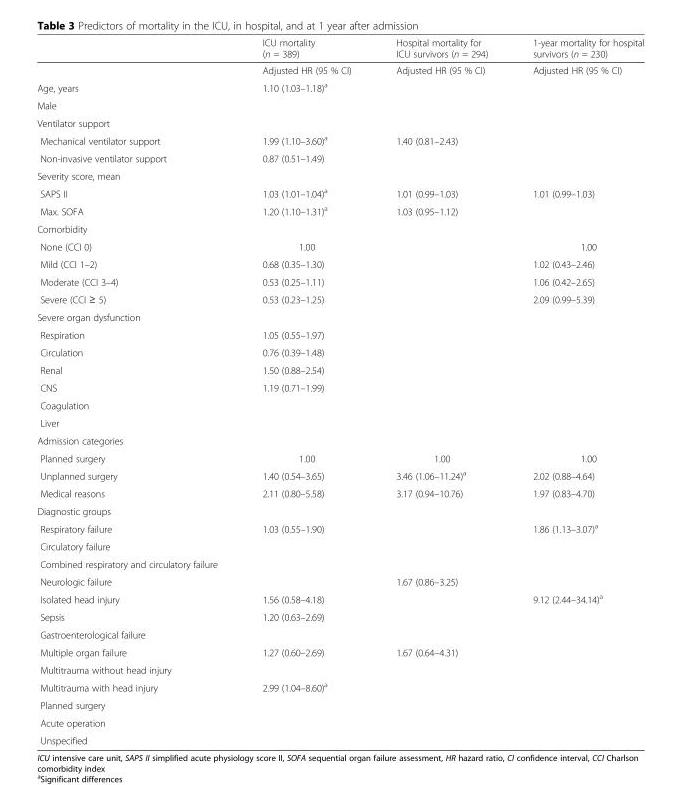table: (36, 36, 643, 745)
table column: (36, 36, 239, 745), (373, 36, 509, 745), (239, 36, 373, 745), (509, 36, 643, 745)
table column header: (36, 36, 643, 61)
table projected row header: (36, 96, 643, 114), (36, 219, 643, 237), (36, 413, 643, 431), (36, 431, 643, 449), (36, 537, 643, 555), (36, 625, 643, 643), (36, 713, 643, 731), (36, 166, 643, 183), (36, 308, 643, 325), (36, 396, 643, 413), (36, 555, 643, 572), (36, 660, 643, 677), (36, 696, 643, 713), (36, 114, 643, 130), (36, 502, 643, 518)
table row: (36, 36, 643, 61), (36, 130, 643, 149), (36, 518, 643, 537), (36, 677, 643, 696), (36, 78, 643, 96), (36, 96, 643, 114), (36, 183, 643, 201), (36, 201, 643, 219), (36, 219, 643, 237), (36, 237, 643, 255), (36, 272, 643, 290), (36, 290, 643, 308), (36, 325, 643, 343), (36, 343, 643, 361), (36, 378, 643, 396), (36, 413, 643, 431), (36, 431, 643, 449), (36, 466, 643, 484), (36, 484, 643, 502), (36, 537, 643, 555), (36, 589, 643, 607), (36, 607, 643, 625), (36, 625, 643, 643), (36, 713, 643, 731), (36, 61, 643, 78), (36, 149, 643, 166), (36, 166, 643, 183), (36, 255, 643, 272), (36, 308, 643, 325), (36, 361, 643, 378), (36, 396, 643, 413), (36, 449, 643, 466), (36, 555, 643, 572), (36, 572, 643, 589), (36, 643, 643, 660), (36, 660, 643, 677), (36, 696, 643, 713), (36, 114, 643, 130), (36, 502, 643, 518), (36, 731, 643, 745)
